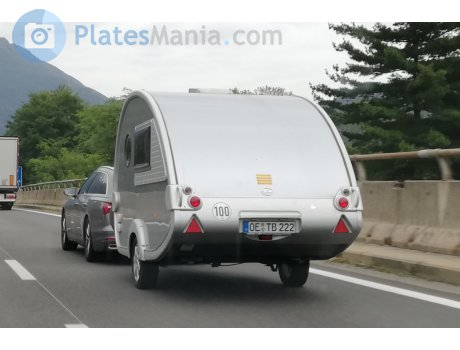License Plates: (247, 217, 295, 232)
